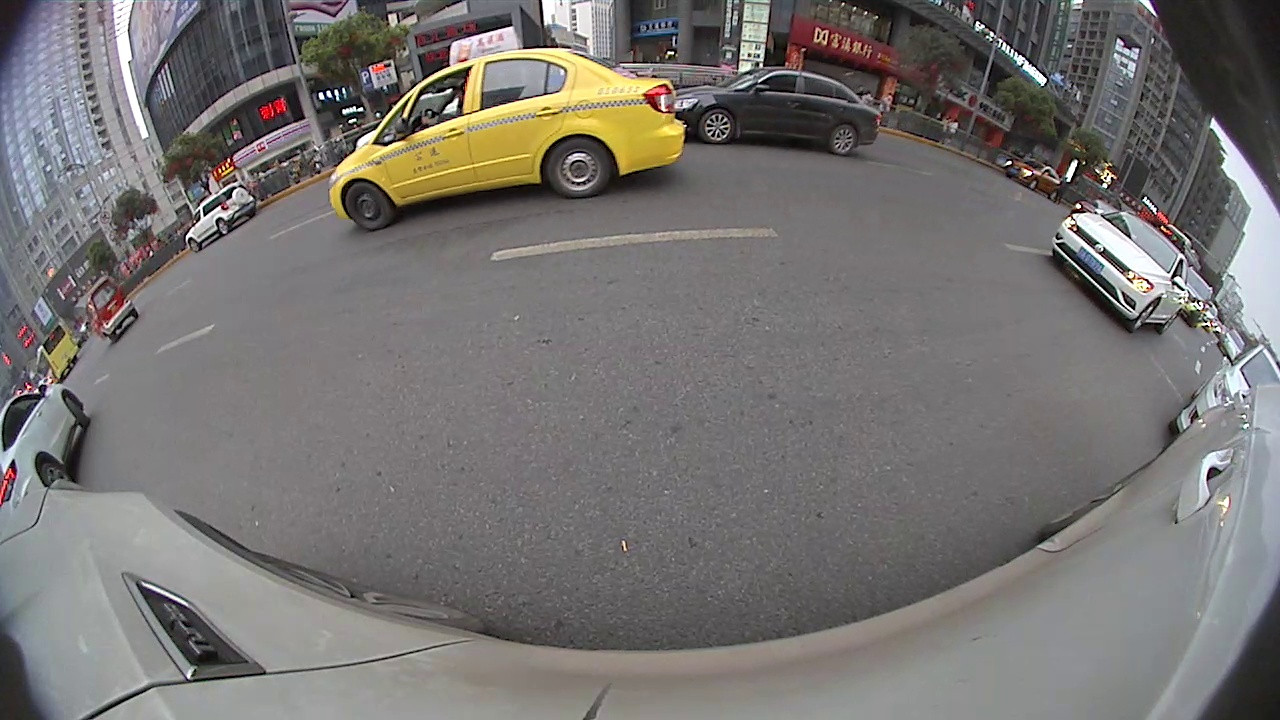car: (323, 23, 688, 234), (672, 65, 883, 158), (1050, 205, 1192, 335), (1168, 341, 1279, 443), (1, 385, 94, 503), (183, 179, 259, 255)
front: (341, 181, 394, 231), (1126, 297, 1163, 336), (700, 107, 735, 148), (63, 391, 95, 428), (186, 238, 203, 255)
rear: (544, 135, 613, 201), (38, 460, 75, 489), (828, 123, 859, 157), (214, 217, 232, 236)
rider: (83, 275, 140, 345)
